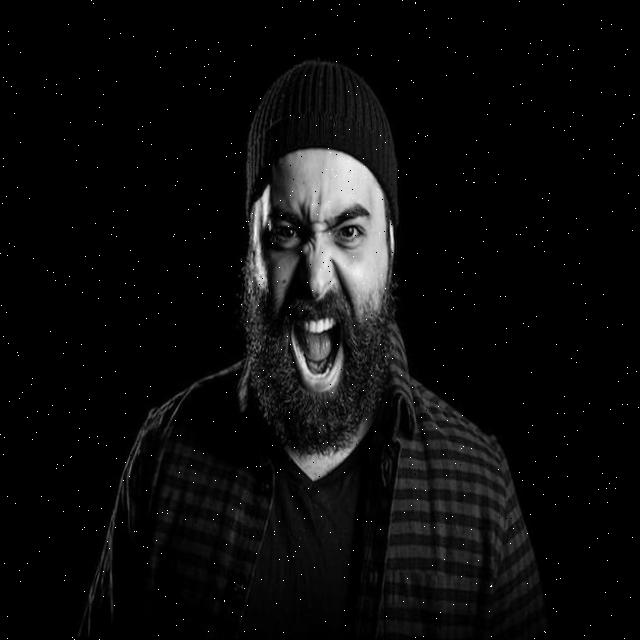Angry: (247, 147, 388, 447)
